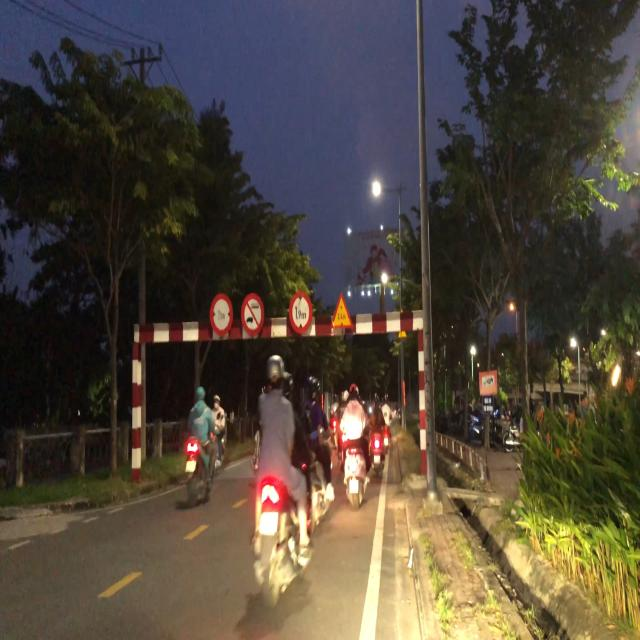Bien bao cam xe oto khach va xe oto tai: (239, 291, 267, 336)
Bien bao chieu cao tinh khong thuc te: (329, 288, 358, 332)
Bien bao han che chieu cao: (287, 287, 316, 337)
